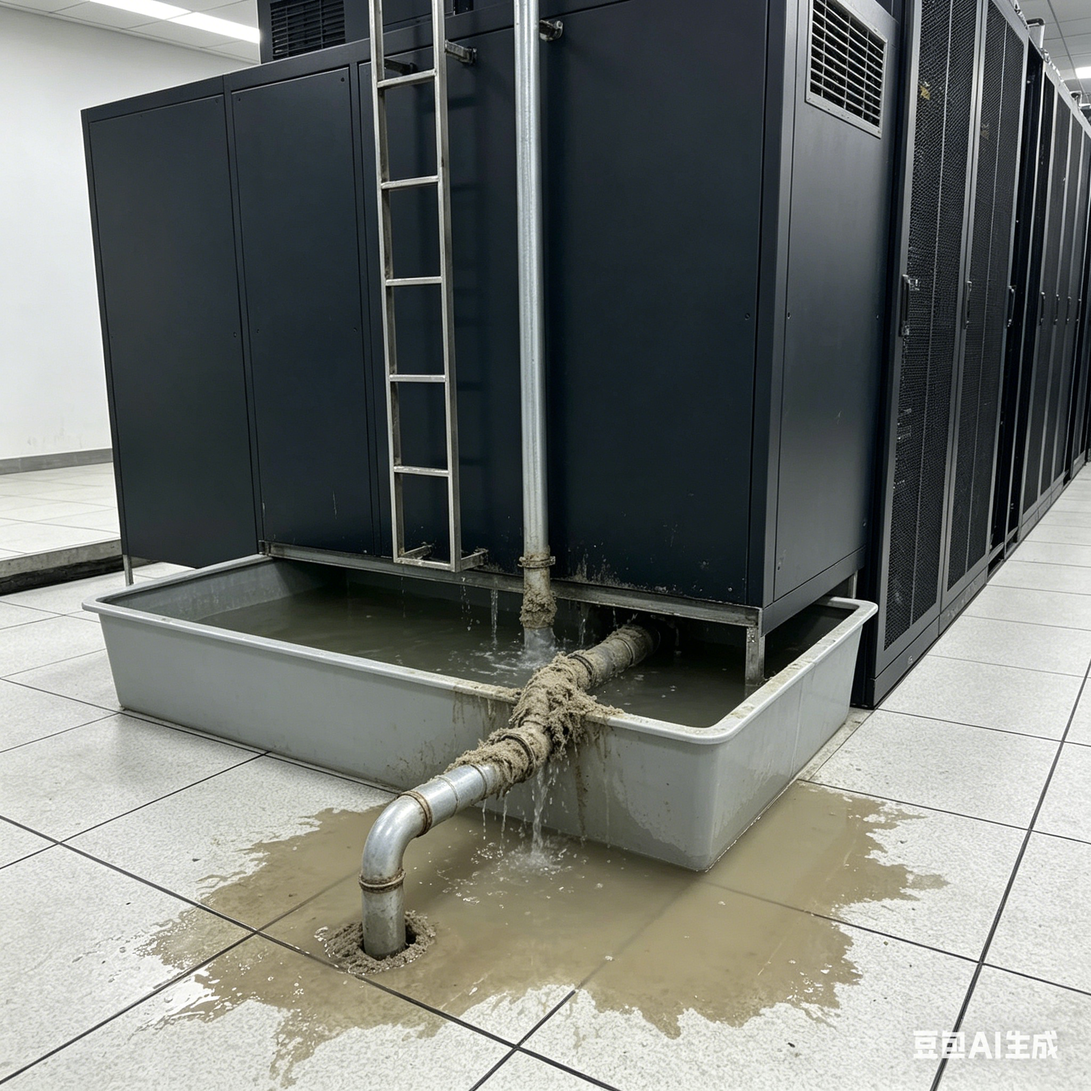Leakage: (321, 804, 892, 1019), (451, 511, 602, 810), (158, 852, 309, 1027)
